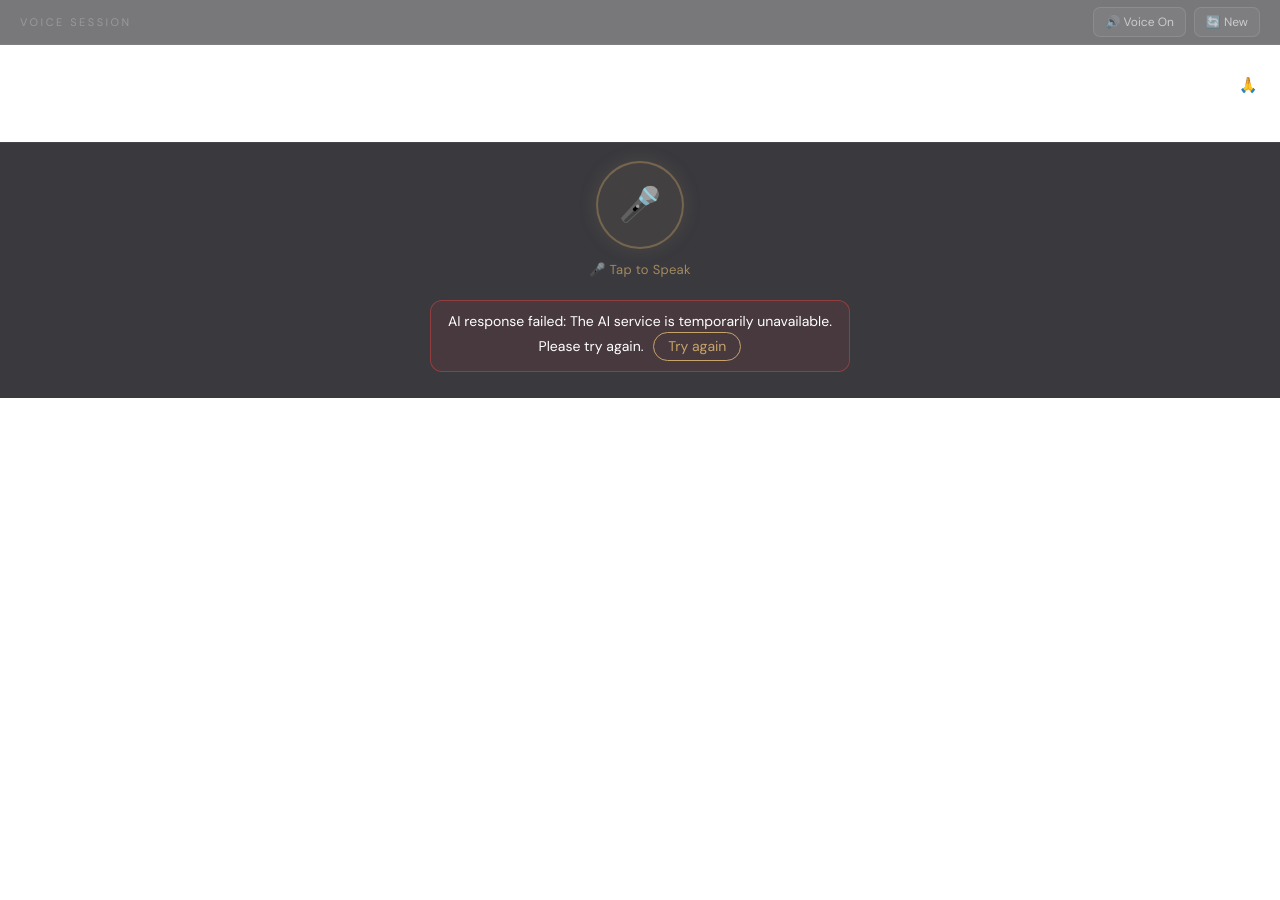
Scenario: Voice consultation › reports an AI failure with retry, speaks nothing, and does not invent a Pandit reply
Expected: the message shows "AI response failed", left=448, top=312, right=570, bottom=330
Expected: the message shows "temporarily unavailable", left=539, top=312, right=832, bottom=355
Step 1. Click the button "Try again" → (697,347), box left=653, top=332, right=741, bottom=361
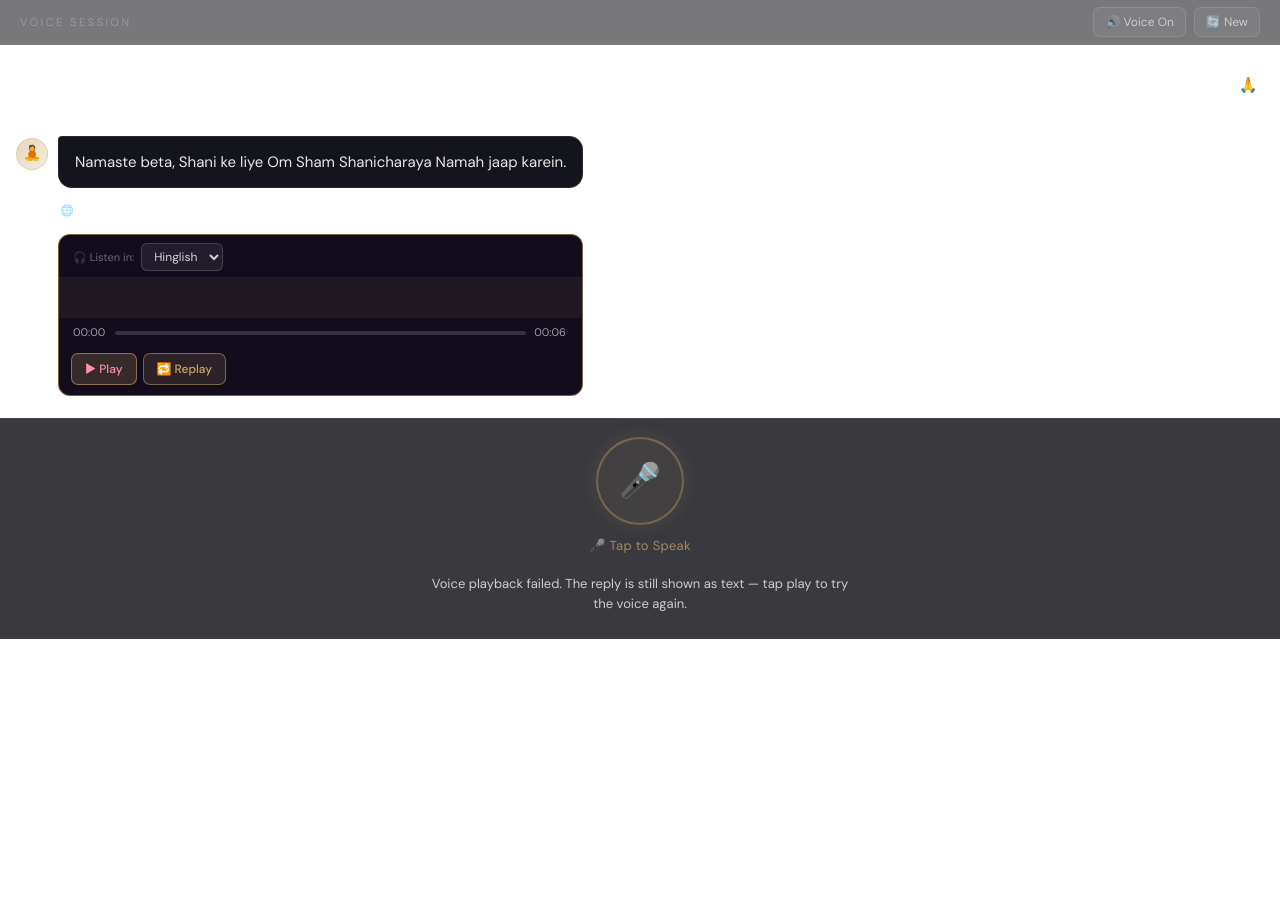
Expected: the text "Shani ke liye" is shown, left=75, top=152, right=566, bottom=172
Expected: the text "AI response failed" is gone
